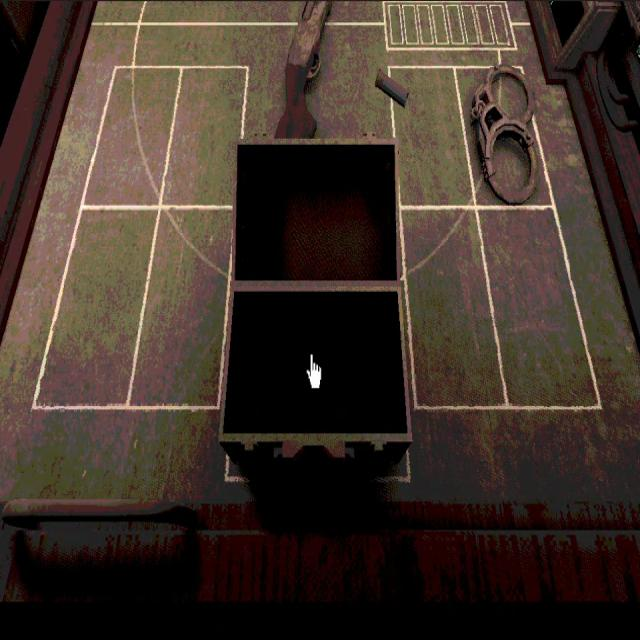emptyspace: (217, 141, 414, 444)
